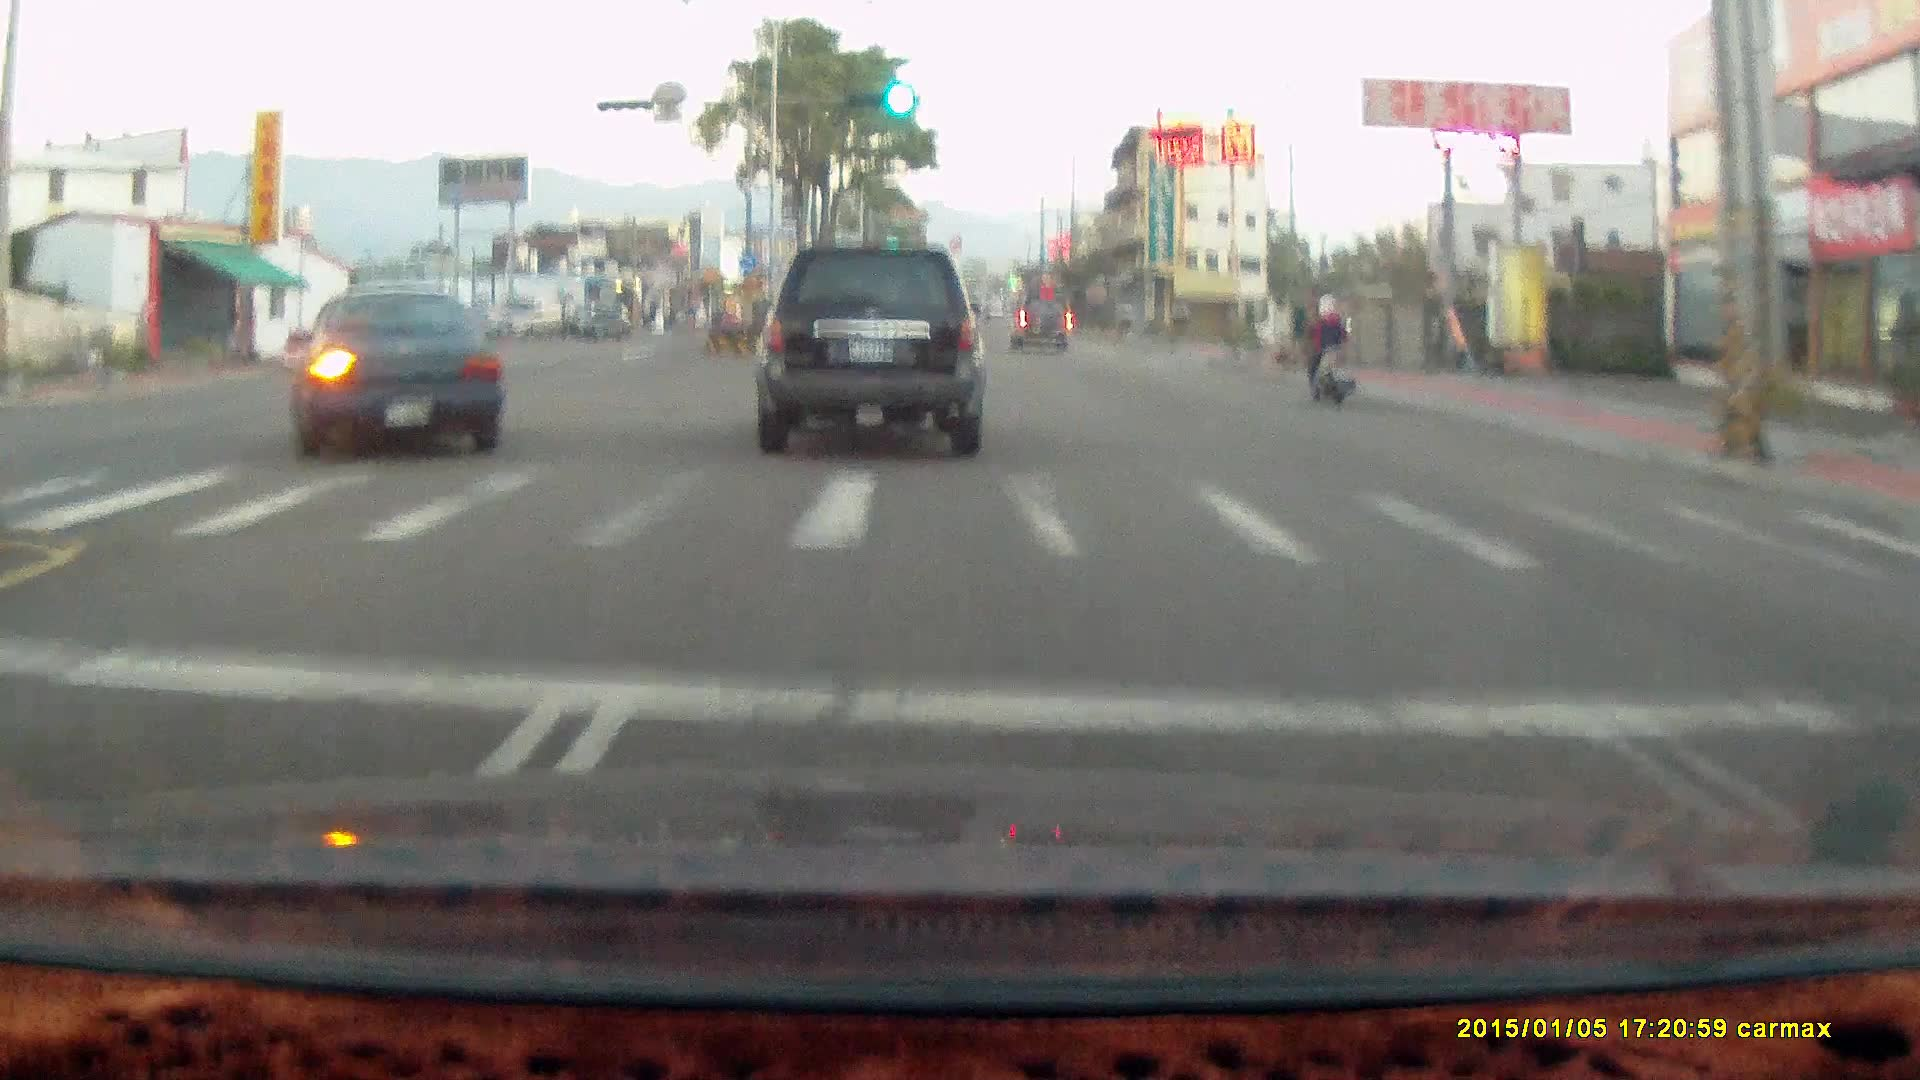rider: (1289, 287, 1366, 417), (1300, 291, 1357, 405)
vehicle: (760, 246, 989, 459), (753, 244, 982, 456), (287, 286, 504, 461), (294, 282, 504, 463), (1014, 290, 1075, 360), (1007, 291, 1071, 351), (488, 297, 561, 341), (579, 303, 632, 338)
